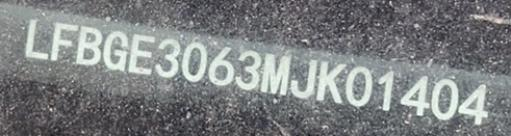letter: (258, 49, 292, 99), (457, 80, 494, 125), (428, 71, 459, 122), (398, 70, 430, 117), (314, 58, 348, 102), (343, 62, 373, 108), (177, 39, 208, 83), (49, 18, 79, 63), (127, 31, 157, 76), (207, 43, 237, 87), (289, 55, 318, 99), (101, 28, 128, 72), (235, 46, 262, 90), (154, 36, 182, 78), (22, 18, 49, 61), (76, 25, 104, 66), (377, 66, 396, 116)
